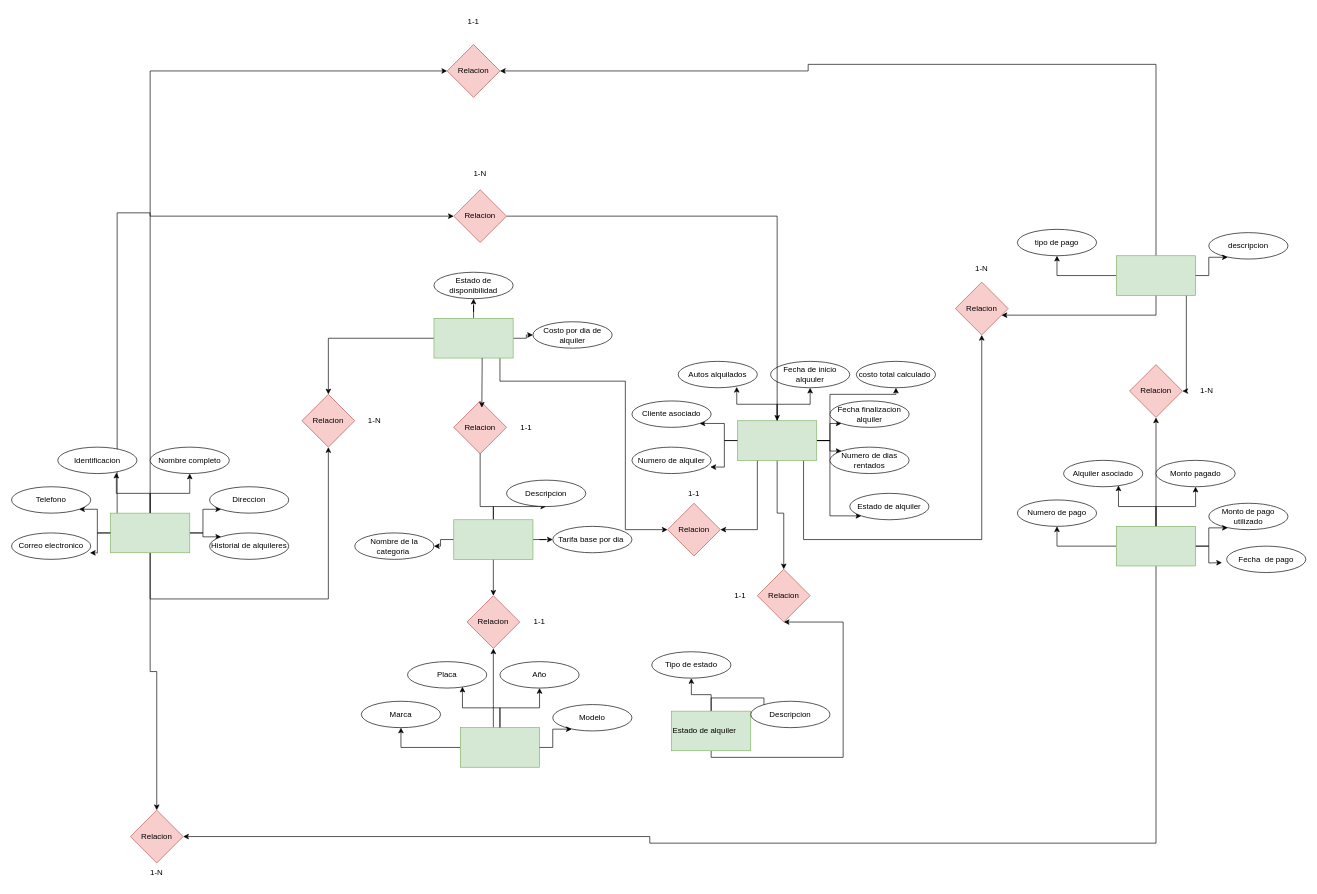
This 1317x894 diagram has some shape labels left out. Each missing label, with the box of its shape:
Alquiler: (737, 420, 817, 460)
Auto: (460, 727, 540, 767)
Categoria: (433, 318, 513, 358)
Categoria de auto: (453, 519, 533, 559)
Cliente: (110, 512, 190, 553)
Medio de pago: (1116, 255, 1196, 295)
Pago: (1116, 526, 1196, 566)
